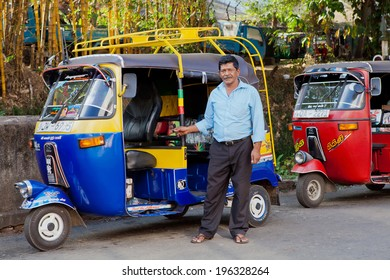threewheel: (14, 52, 281, 251), (287, 60, 390, 207)
